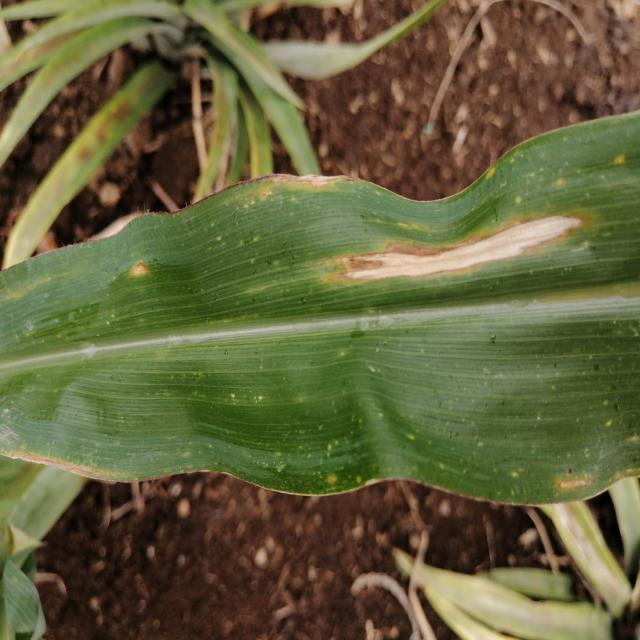Corn_Leaf_Blight: (0, 116, 640, 508)
